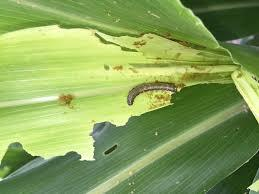fallarmy_worm: (124, 81, 185, 107)
